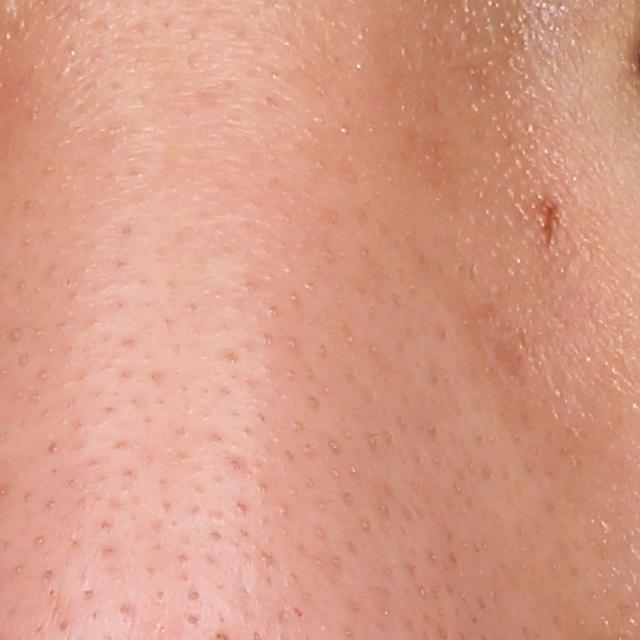nevus: (535, 191, 564, 252)
